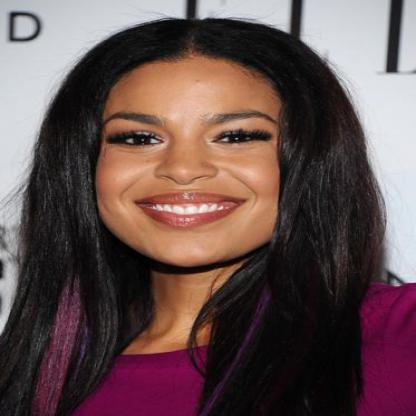long-hair: (7, 272, 369, 337)
